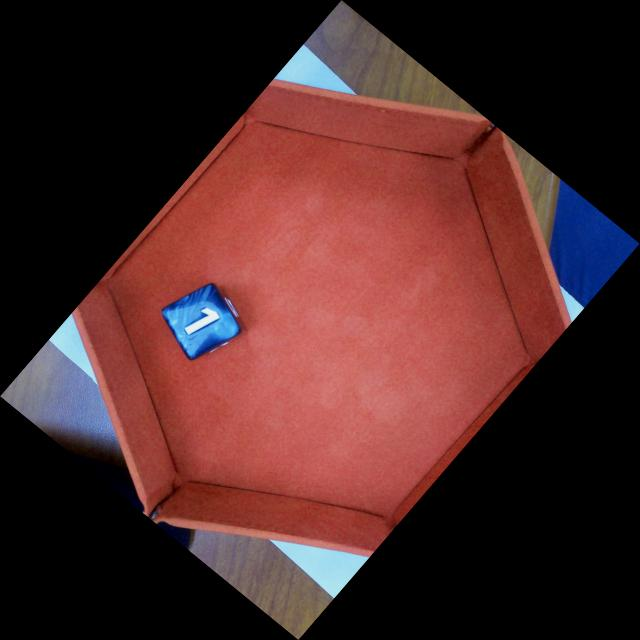dice: (160, 283, 242, 361)
